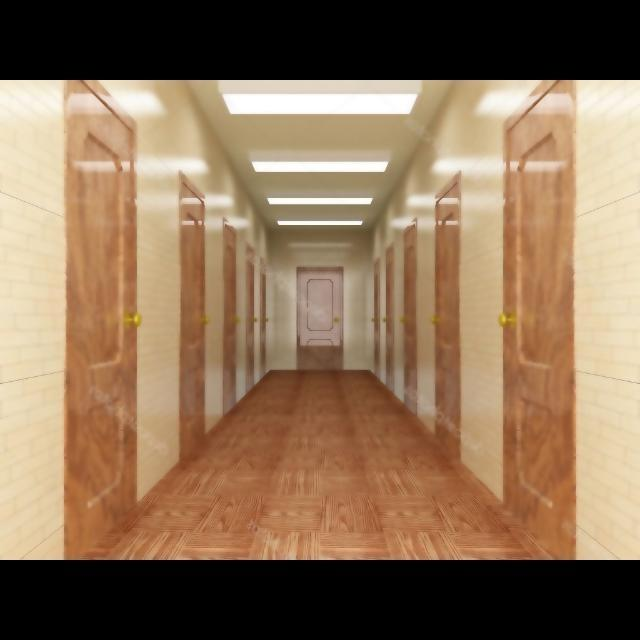door: (491, 82, 602, 560), (55, 78, 138, 566), (171, 160, 210, 463), (432, 176, 470, 462)
